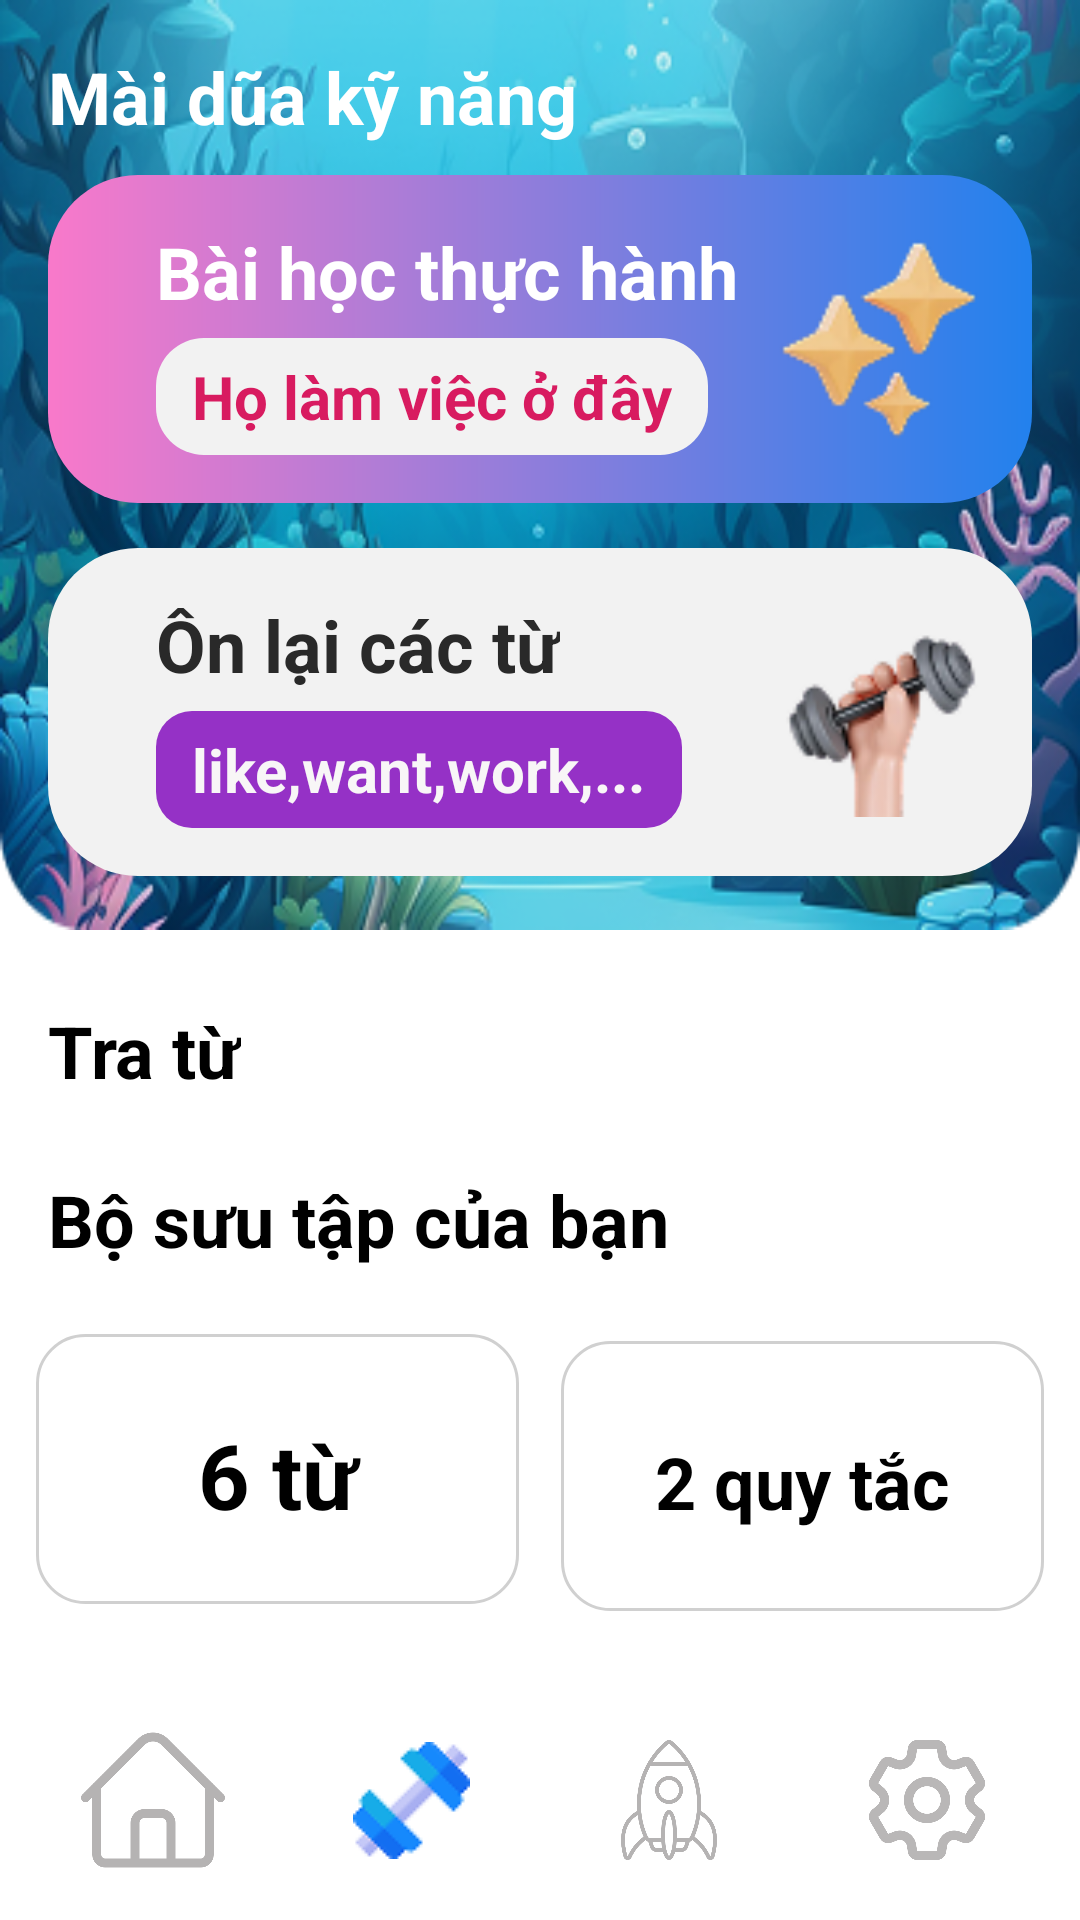

Icons on this 1080w x 1920h Android screen, each with the point to tap as point (x, y):
Cài đặt: point (927, 1800)
star: point (879, 339)
strong: point (882, 726)
Trang chủ: point (153, 1800)
